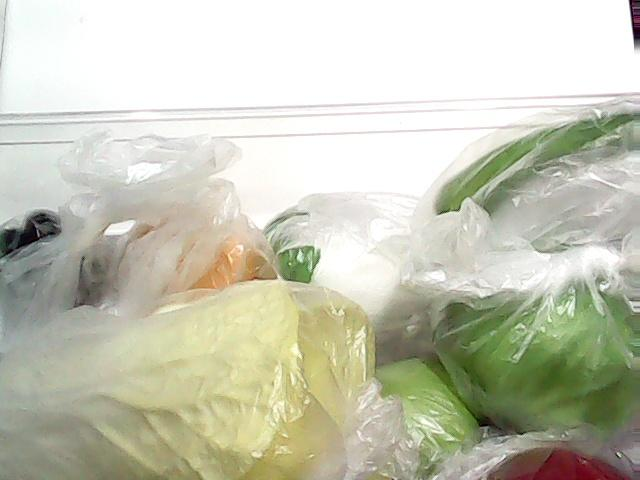apple: (368, 354, 468, 470), (469, 427, 630, 480)
cabbage: (416, 236, 640, 430)
grape: (0, 175, 96, 286)
lemon: (116, 191, 300, 310)
napa cabbage: (0, 279, 364, 480)
pepper: (412, 83, 640, 242)
radish: (266, 192, 434, 348)
